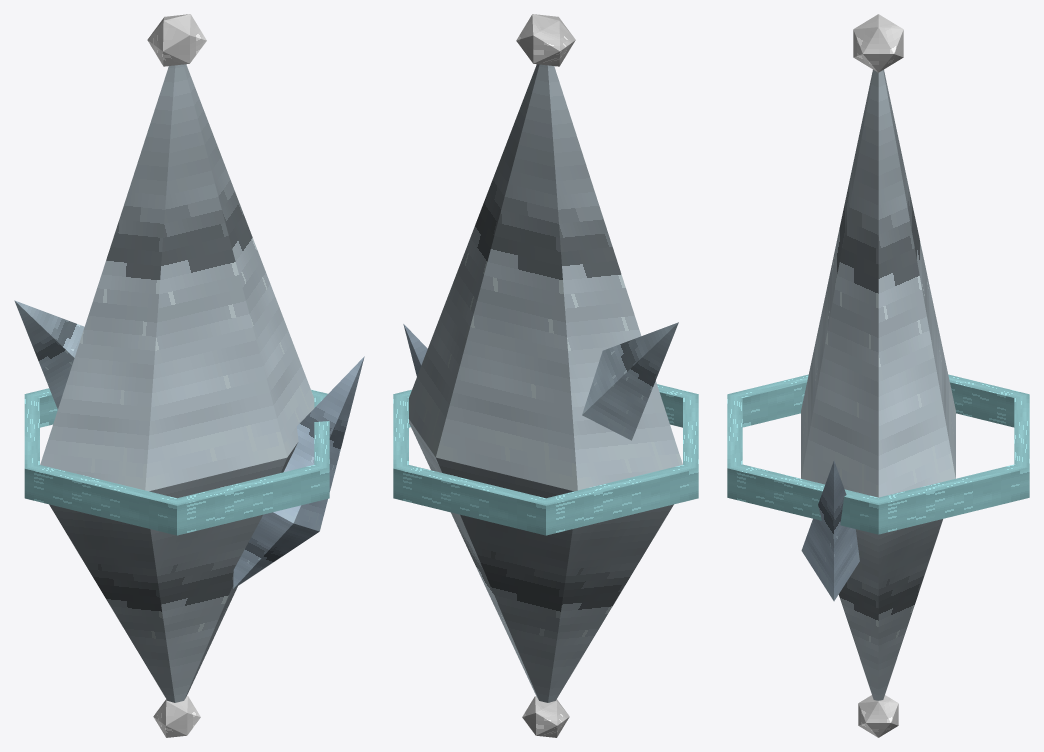
File: proj_prism.gltf
3 renders of one model, left to right at view 1: azimuth 30°, elevation 25°; view 2: azimuth 150°, elevation 25°; view 3: azimuth 270°, elevation 25°, orthographic.
Parts seen in each view (by area): view 1: shard, rim; view 2: shard, rim; view 3: shard, rim.
Part boxes in pixels (bbox=[...]): shard: bbox=[14, 64, 364, 702]; rim: bbox=[24, 14, 329, 737]; shard: bbox=[403, 64, 682, 702]; rim: bbox=[393, 14, 698, 737]; shard: bbox=[801, 69, 955, 700]; rim: bbox=[727, 14, 1029, 737].
Bounding box in the file's own units: 0.2458 × 0.5306 × 0.2044.
Materials: 2 (2 with a texture image).
